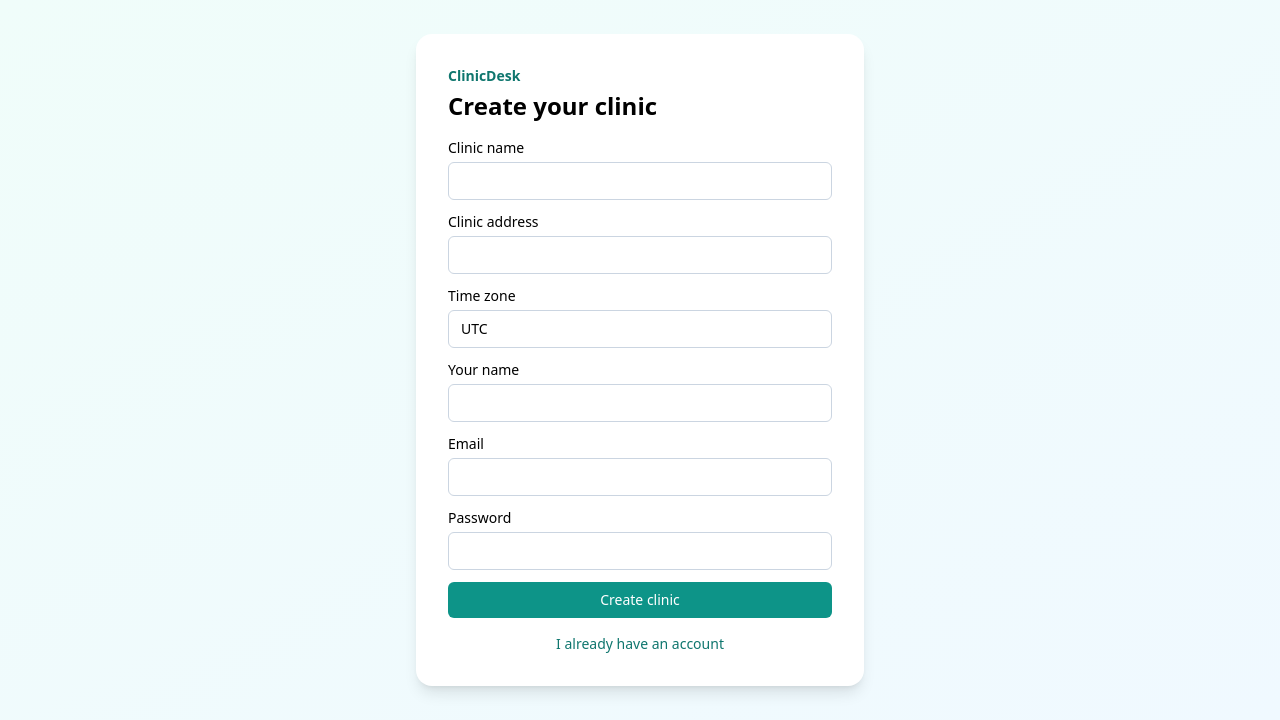
authentication › signs up a clinic with a slug derived from its name
Step 1. Type "Sunrise Family Clinic!" into the field labelled "Clinic name" → (640, 181), box top-left (448, 162), bottom-right (832, 200)
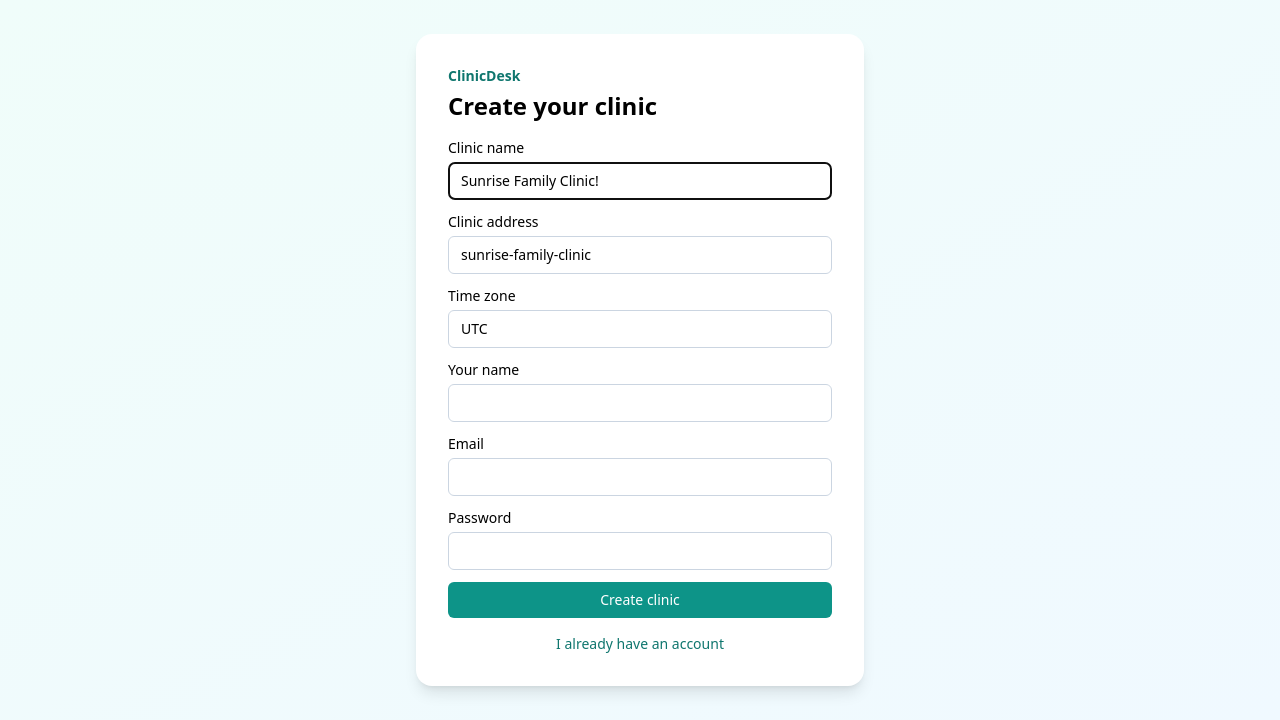
Result: the field labelled "Clinic address" holds "sunrise-family-clinic" at top-left (448, 236), bottom-right (832, 274)
Step 2. Type "Olivia" into the field labelled "Your name" → (640, 403), box top-left (448, 384), bottom-right (832, 422)
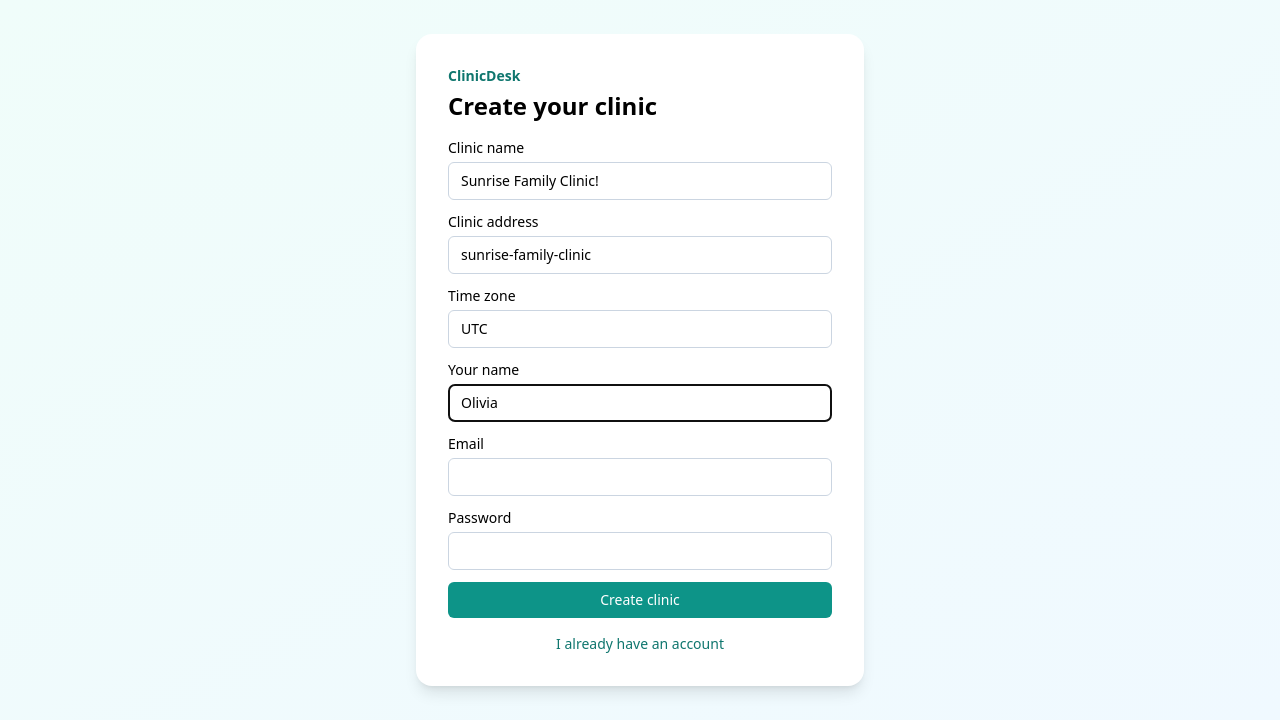
Step 3. Type "o@x.dev" into the field labelled "Email" → (640, 477), box top-left (448, 458), bottom-right (832, 496)
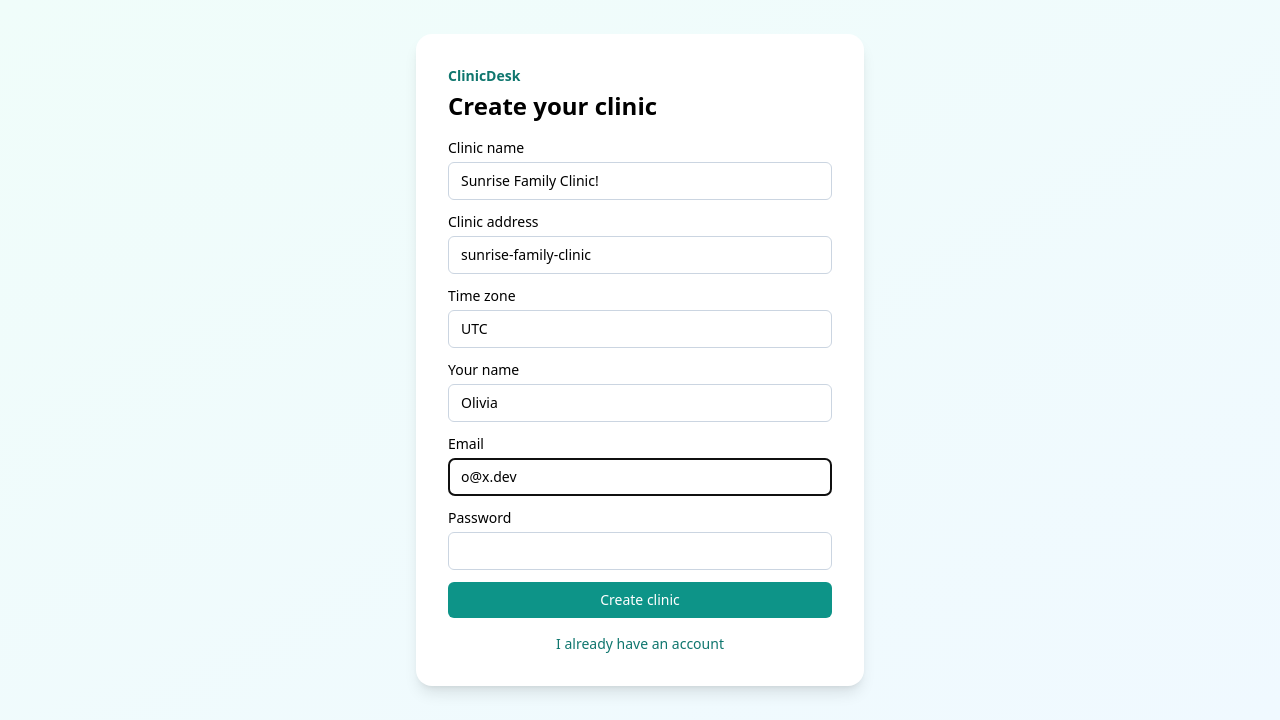
Step 4. Type "Passw0rd!" into the password field labelled "Password" → (640, 551), box top-left (448, 532), bottom-right (832, 570)
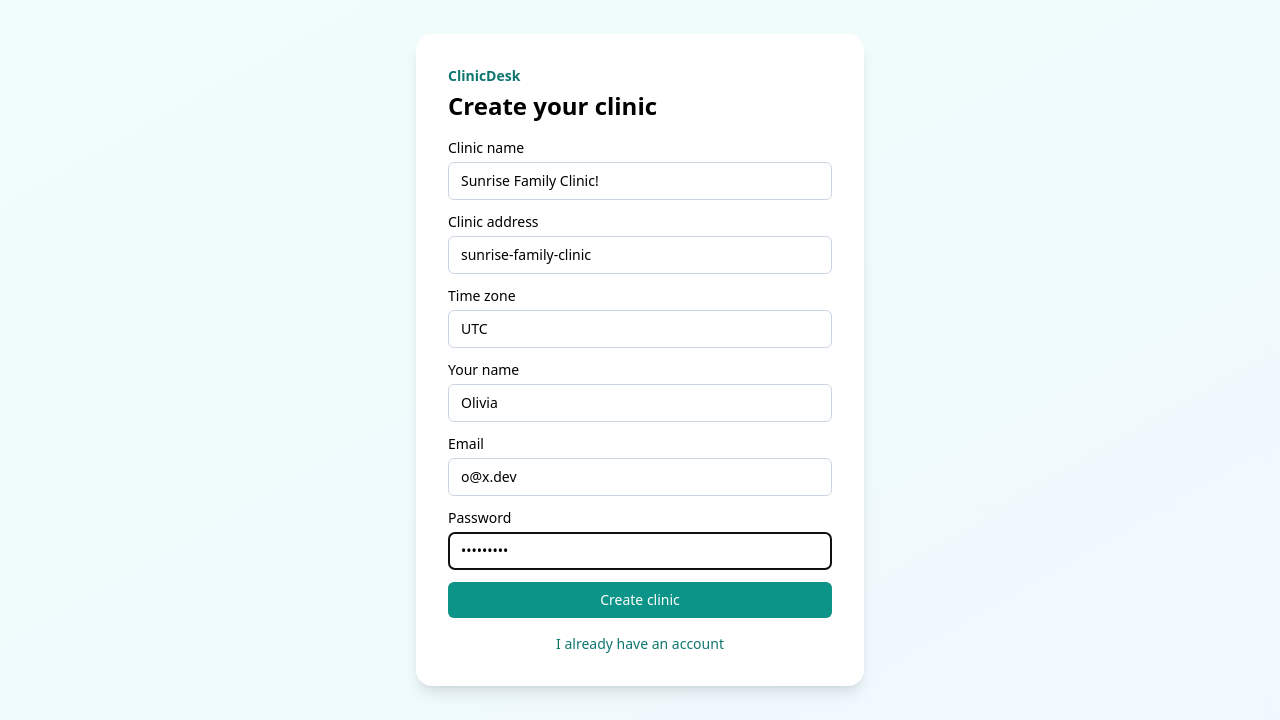
Step 5. Click the button "Create clinic" → (640, 600), box top-left (448, 582), bottom-right (832, 618)
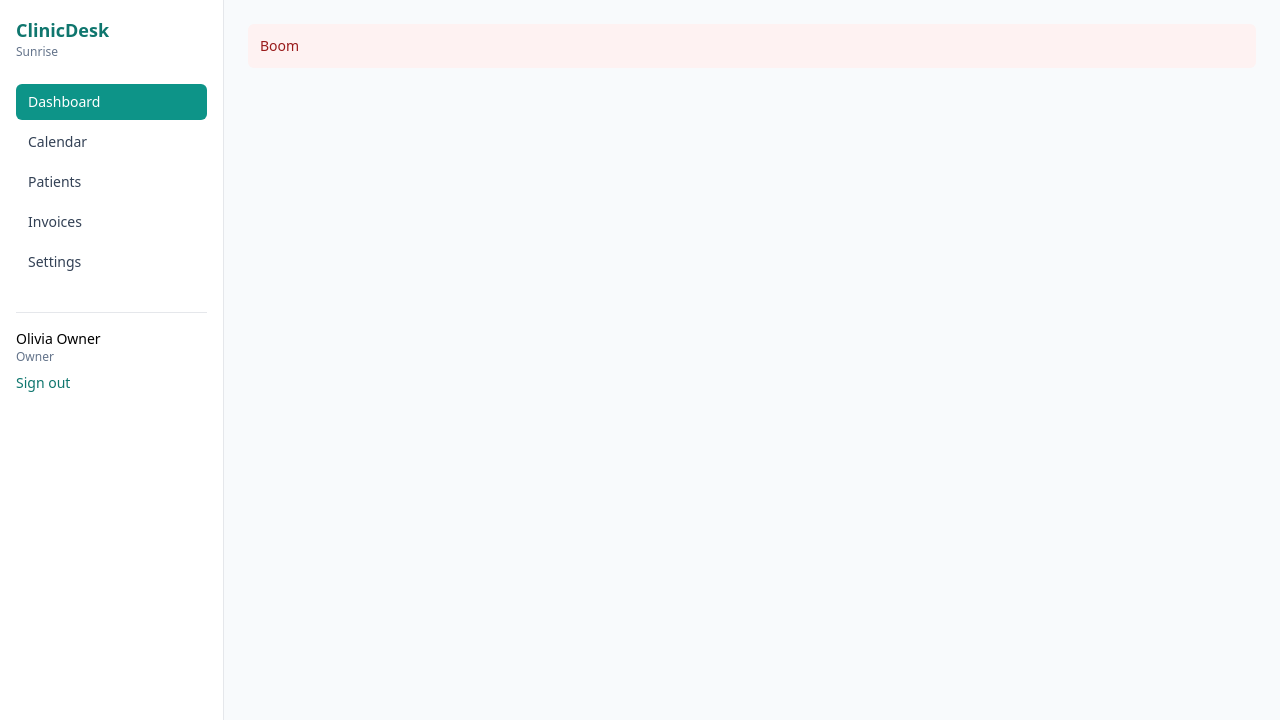
Result: the message reads "Boom" at top-left (260, 36), bottom-right (299, 55)
